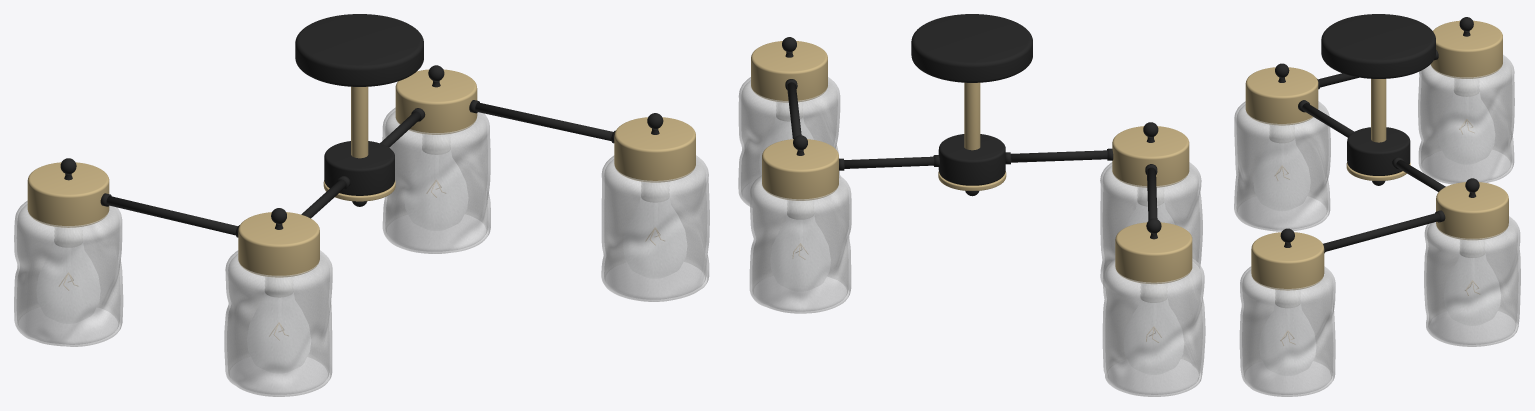
3 views of the same model, side by side, from view 1: azimuth 30°, elevation 25°; view 2: azimuth 150°, elevation 25°; view 3: azimuth 270°, elevation 25° (orthographic). The views are drawn at different scales.
Visible parts, largest first — view 1: glass, gold, black, bulb_cap; view 2: glass, gold, black, bulb_cap; view 3: glass, gold, black, bulb_cap.
Boxes of the visible parts, <box> form: glass: <box>14,107,709,396</box>; gold: <box>27,69,695,277</box>; black: <box>60,14,663,237</box>; bulb_cap: <box>54,134,669,297</box>; glass: <box>738,77,1205,396</box>; gold: <box>751,41,1192,284</box>; black: <box>782,14,1161,239</box>; bulb_cap: <box>776,102,1167,302</box>; glass: <box>1234,55,1520,396</box>; gold: <box>1245,20,1508,290</box>; black: <box>1275,14,1479,253</box>; bulb_cap: <box>1269,78,1484,307</box>.
Bounding box in the file's own units: 0.6238 × 0.27 × 0.2998.
Materials: 6 (1 with a texture image).
